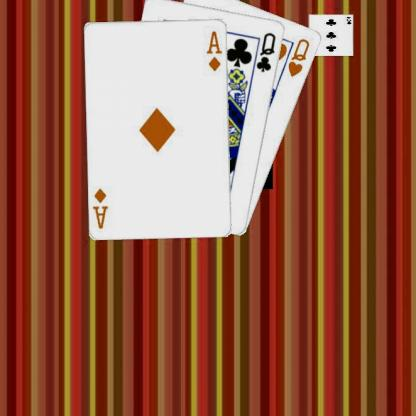AD: (206, 29, 226, 72), (93, 186, 112, 230)
QC: (256, 30, 280, 74)
QH: (287, 35, 314, 79)
